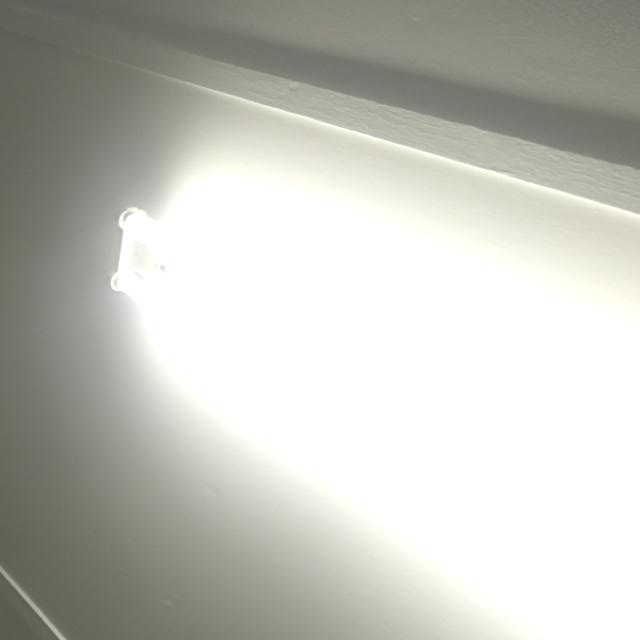fluorescent tube: (92, 134, 640, 640)
